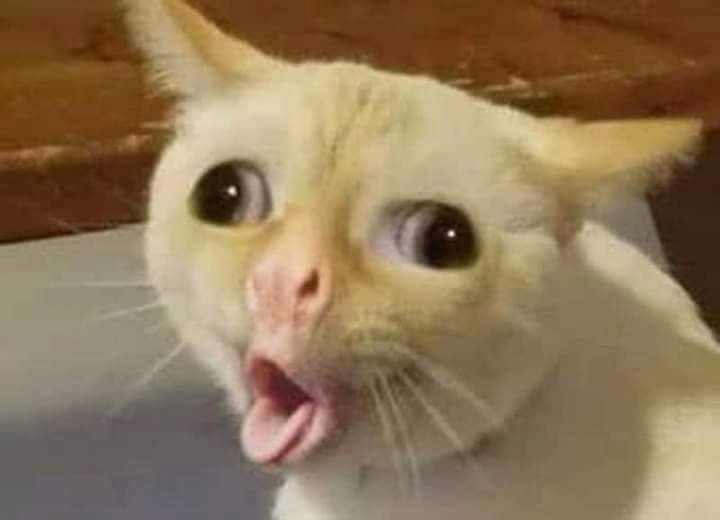cat: (142, 3, 720, 518)
